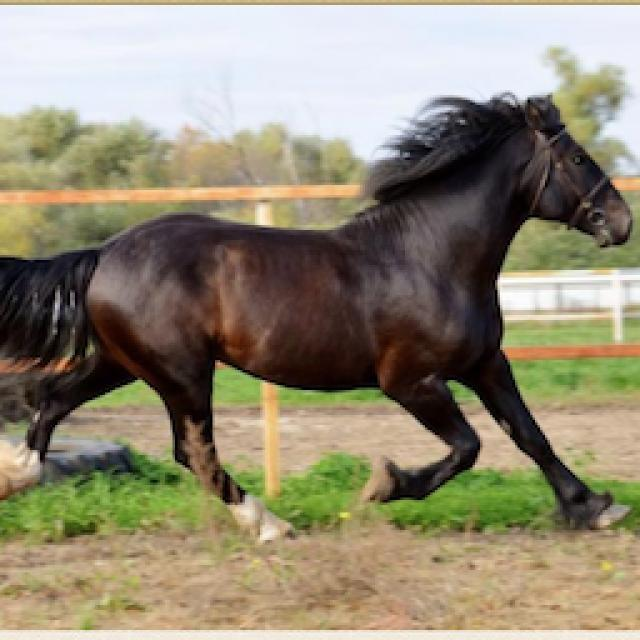Horse: (0, 85, 638, 548)
